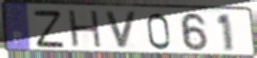0: (145, 12, 172, 52)
1: (216, 13, 236, 53)
6: (179, 11, 211, 53)
H: (66, 9, 105, 51)
V: (102, 10, 139, 51)
Z: (32, 9, 67, 49)
